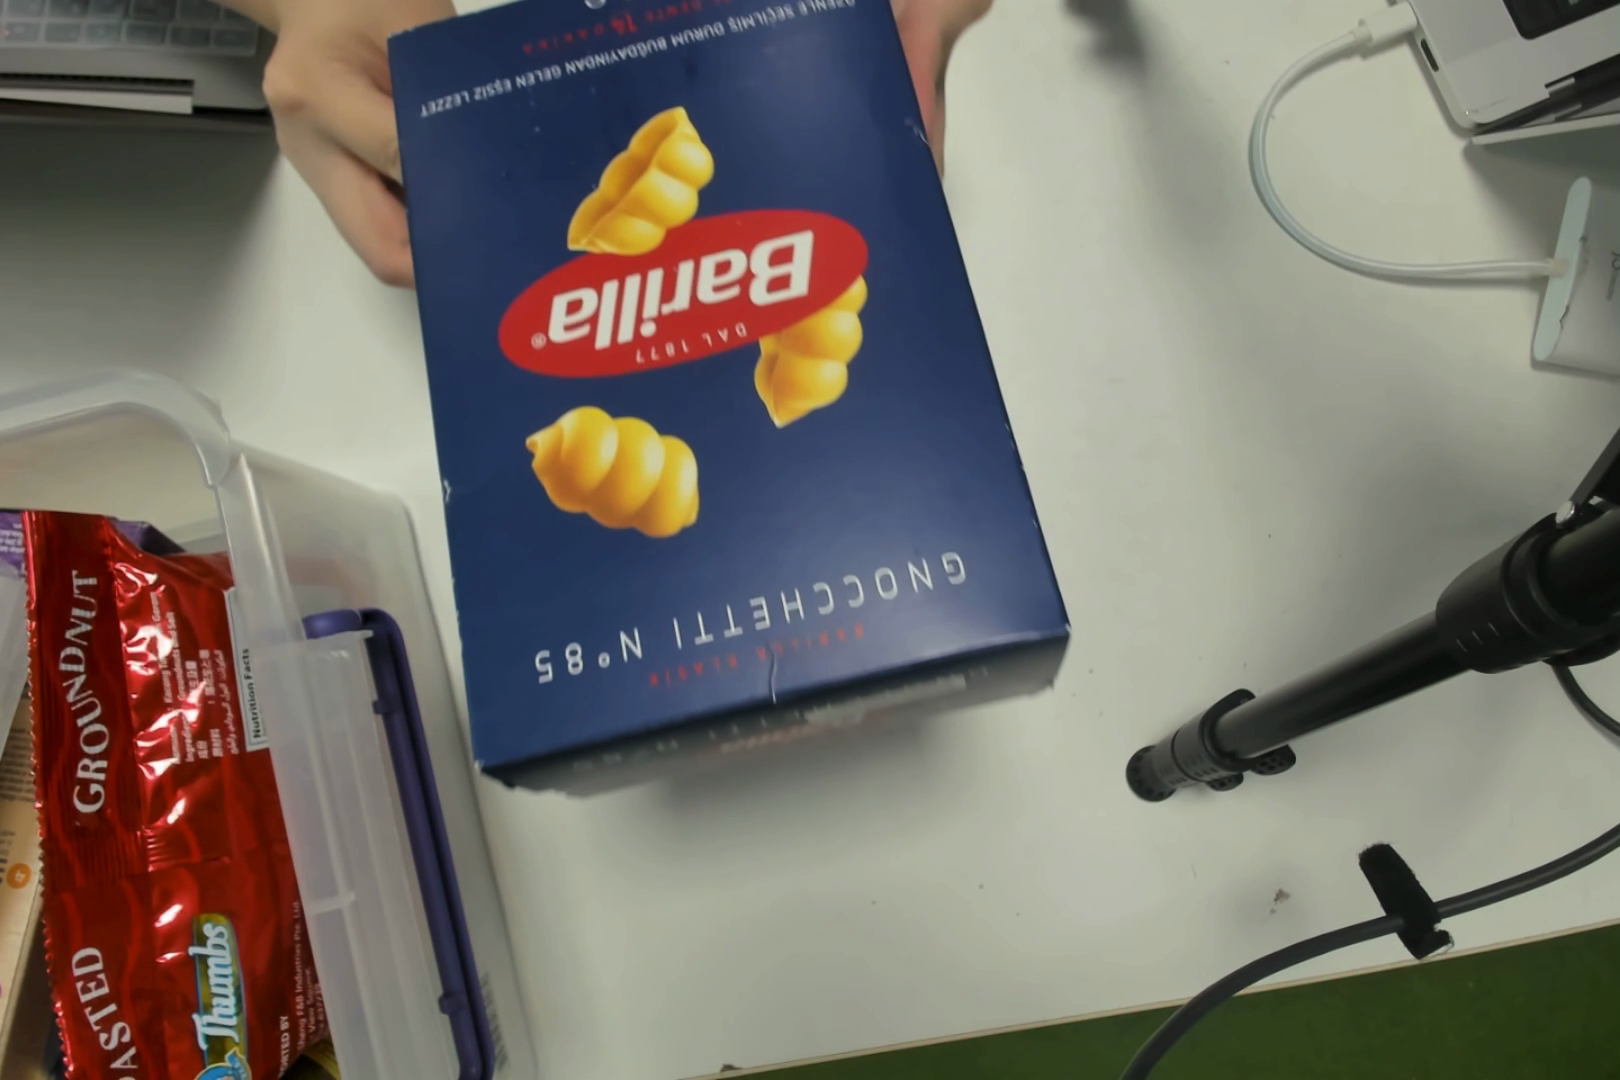Pasta_500-599g_NonHalal_NonHealthy: (447, 31, 1015, 729)
